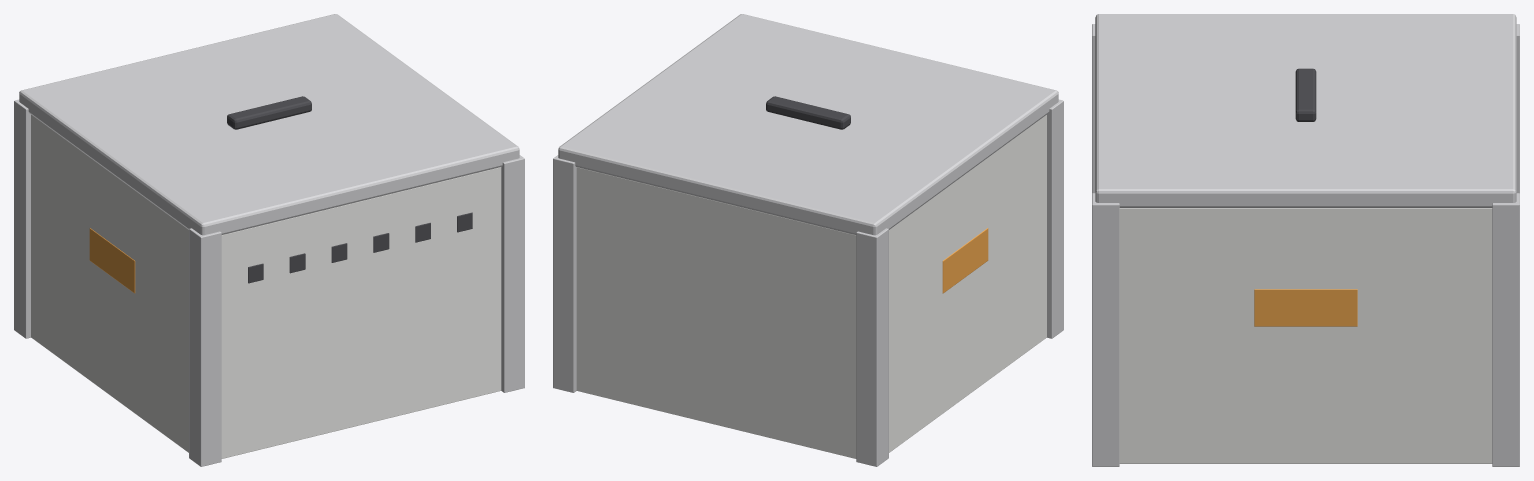
Rendered from crate.glb.
3 renders of one model, left to right at view 1: azimuth 30°, elevation 25°; view 2: azimuth 150°, elevation 25°; view 3: azimuth 270°, elevation 25°, orthographic. The views are drawn at different scales.
Parts seen in each view (by area): view 1: body, lid; view 2: body, lid; view 3: body, lid.
Boxes of the visible parts, box(x1,y1,x2,y2) form: body: box(14, 99, 524, 466); lid: box(19, 14, 519, 235); body: box(553, 99, 1063, 466); lid: box(558, 14, 1058, 235); body: box(1092, 24, 1519, 466); lid: box(1095, 14, 1516, 207).
Size of the model in its own units: 1.24 by 0.92 by 1.24.
